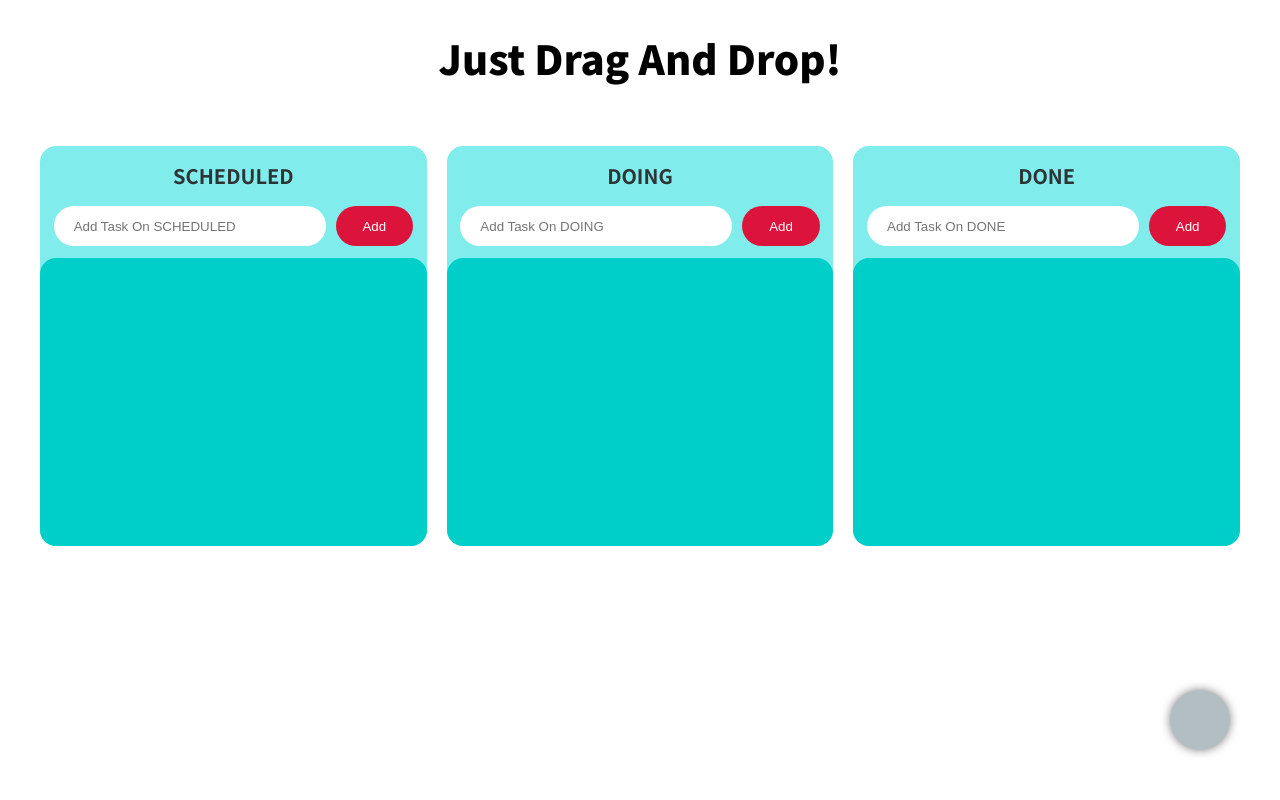
Test: adds a task to a board through the form and persists it
The image size is (1280, 800).
Type "write regression test" into the field with placeholder "Add Task On DOING". click: [596, 226]
box: [460, 206, 732, 246]
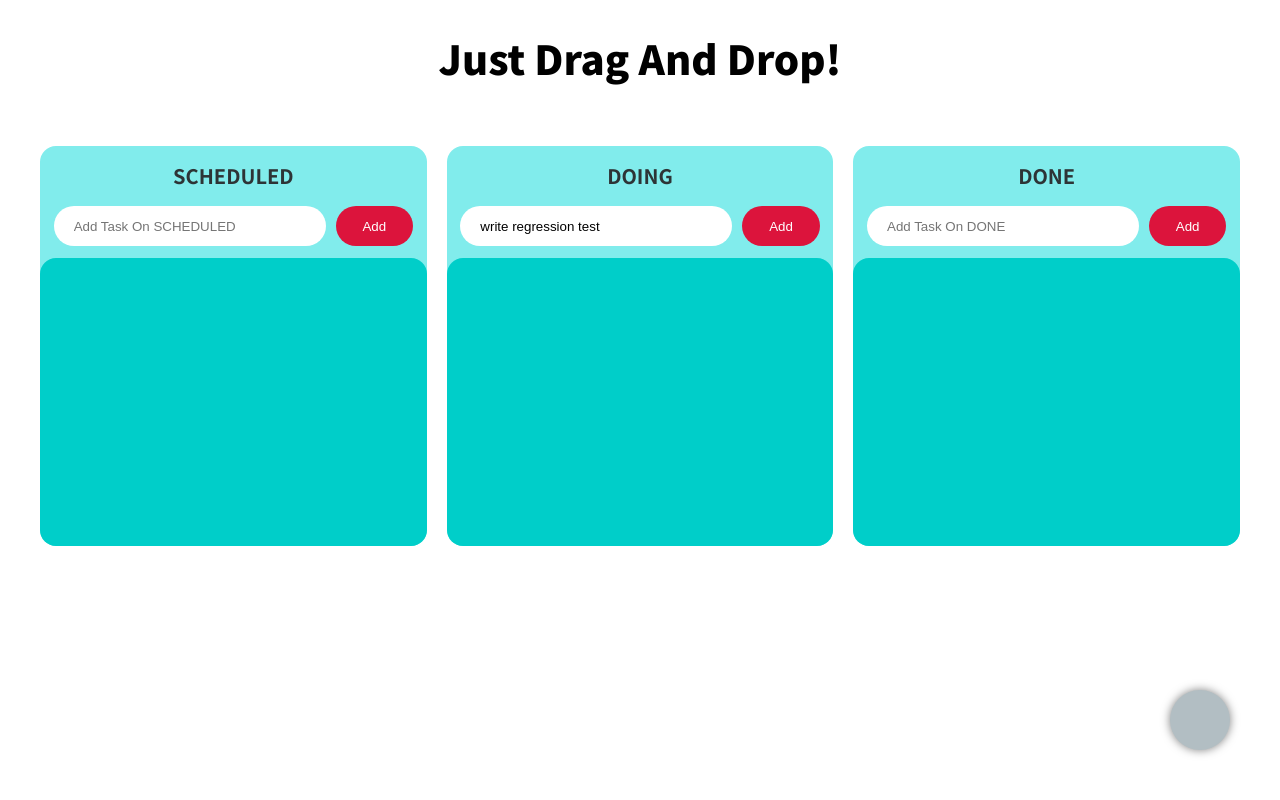
Click the button "Add" below "DOING". click: [781, 226]
box: [742, 206, 820, 246]
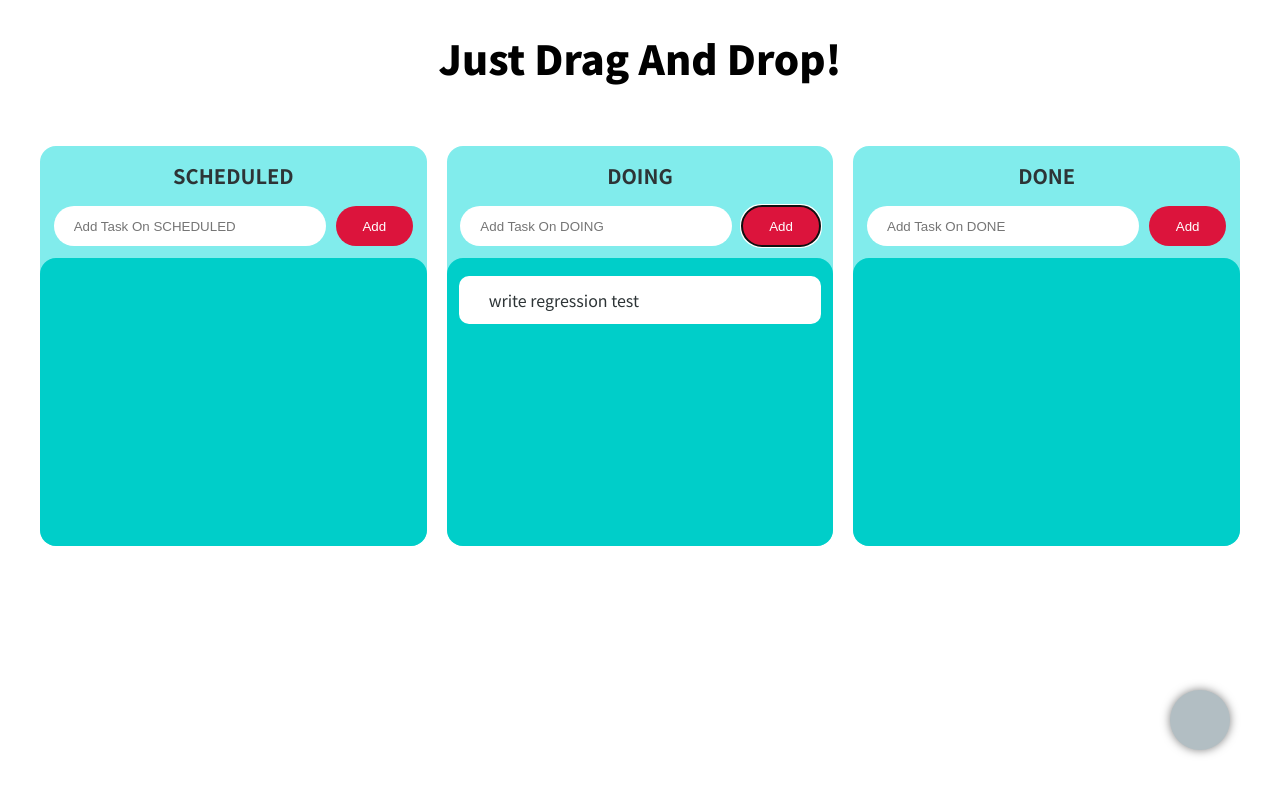
Now the button "write regression test" is shown, box [459, 276, 821, 324]
